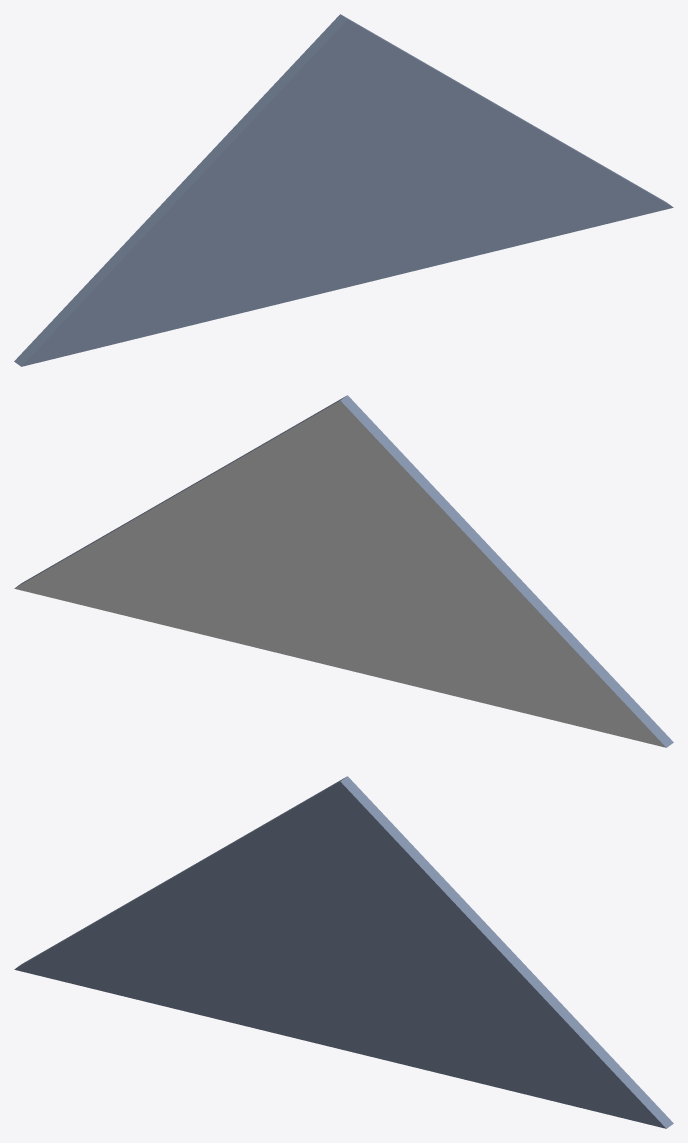
File: Wall1_C3_18.fbx
3 renders of one model, top to bottom at view 1: azimuth 30°, elevation 25°; view 2: azimuth 150°, elevation 25°; view 3: azimuth 330°, elevation 25°, orthographic.
Visible parts, largest first — view 1: Wall1_C3_18; view 2: Wall1_C3_18; view 3: Wall1_C3_18.
Boxes of the visible parts, x1=… form: Wall1_C3_18: x1=14, y1=14, x2=673, y2=366; Wall1_C3_18: x1=14, y1=395, x2=673, y2=747; Wall1_C3_18: x1=14, y1=776, x2=673, y2=1128.
Bounding box in the file's own units: 765 × 300 × 15.
